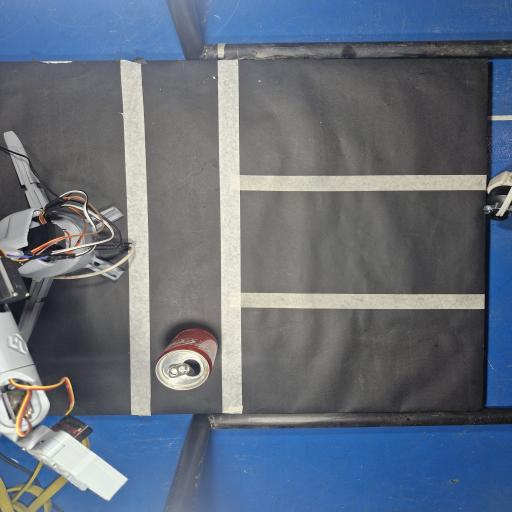lata: (155, 328, 218, 390)
